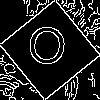O: (25, 25, 68, 75)
